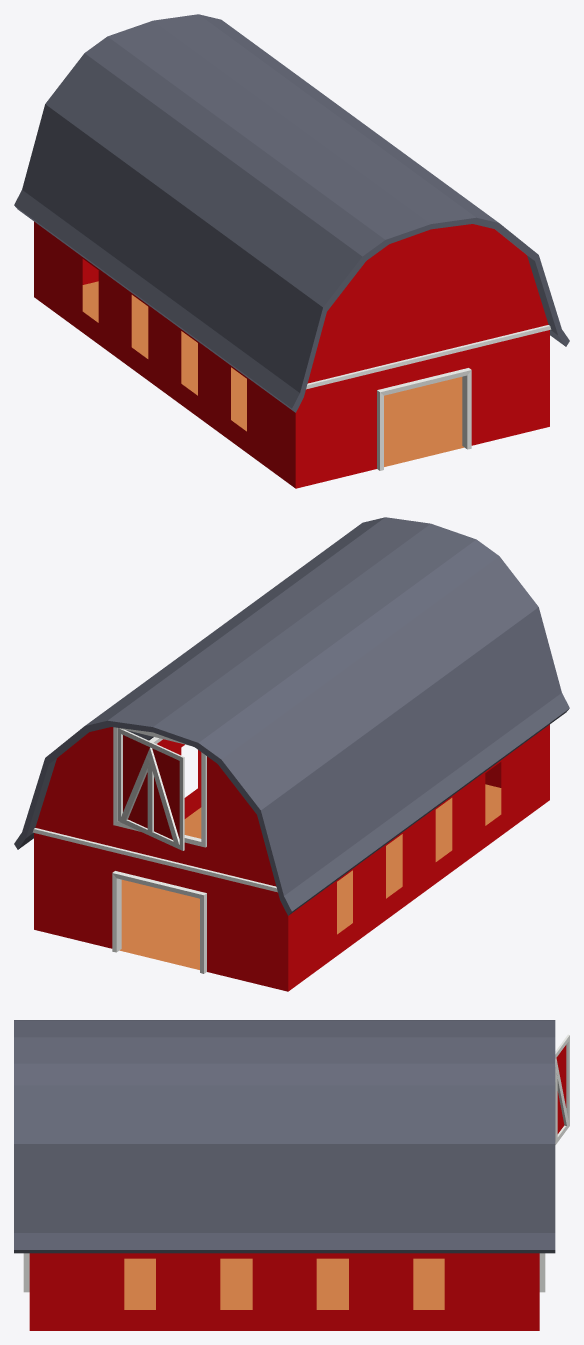
File: Barn.fbx
3 renders of one model, top to bottom at view 1: azimuth 30°, elevation 25°; view 2: azimuth 150°, elevation 25°; view 3: azimuth 270°, elevation 25°, orthographic. The views are drawn at different scales.
Parts seen in each view (by area): view 1: Roof, Barn, Floor, Barn.002, Trim; view 2: Roof, Barn, Floor, WindowDoor, Barn.001, Trim, WindowTrim; view 3: Roof, Barn, Floor, WindowDoor.
Boxes of the visible parts, <box> form: Roof: <box>14,14,569,412</box>; Barn: <box>34,221,549,488</box>; Floor: <box>82,281,464,466</box>; Barn.002: <box>377,368,471,470</box>; Trim: <box>306,325,551,389</box>; Roof: <box>14,517,569,915</box>; Barn: <box>34,724,549,991</box>; Floor: <box>119,784,501,969</box>; WindowDoor: <box>118,728,184,850</box>; Barn.001: <box>112,871,206,973</box>; Trim: <box>32,737,277,892</box>; WindowTrim: <box>113,727,206,847</box>; Roof: <box>14,1020,555,1253</box>; Barn: <box>29,1253,539,1330</box>; Floor: <box>124,1258,444,1309</box>; WindowDoor: <box>555,1034,569,1144</box>.
Size of the model in its own units: 365 by 300 by 649.
